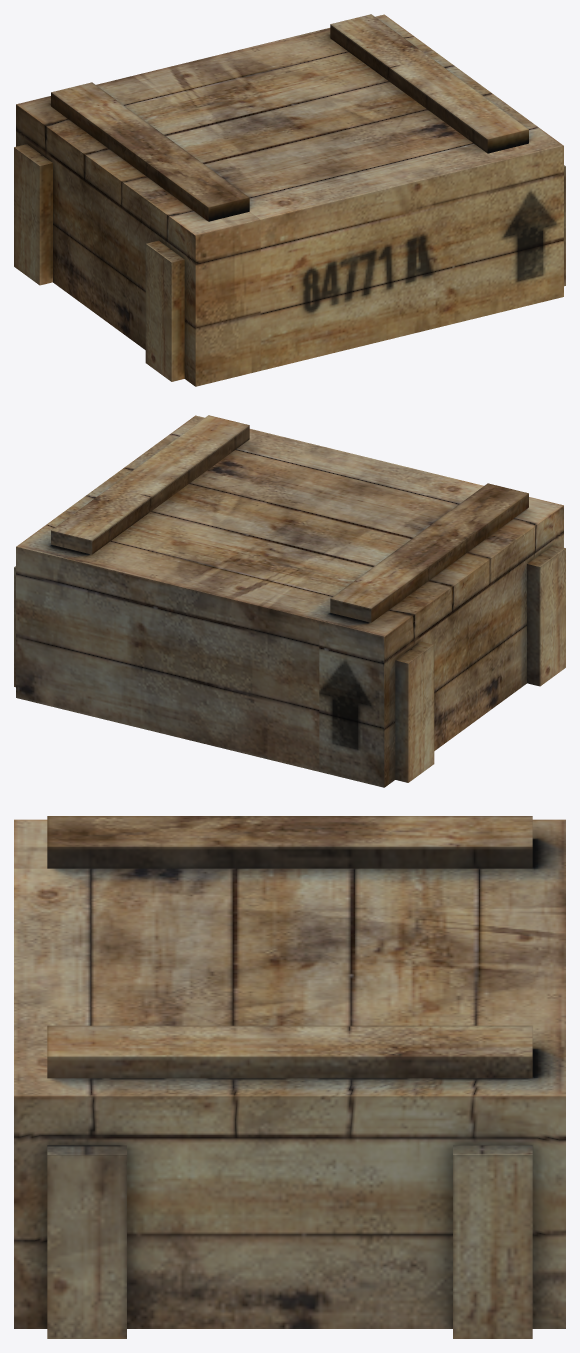
File: MediumTank_Gear_Crate_02.FBX
3 renders of one model, top to bottom at view 1: azimuth 30°, elevation 25°; view 2: azimuth 150°, elevation 25°; view 3: azimuth 270°, elevation 25°, orthographic. The views are drawn at different scales.
Parts seen in each view (by area): view 1: MediumTank_Gear_Crate_02; view 2: MediumTank_Gear_Crate_02; view 3: MediumTank_Gear_Crate_02.
Part boxes in pixels (<box>): MediumTank_Gear_Crate_02: <box>14,14,565,386</box>; MediumTank_Gear_Crate_02: <box>14,415,565,787</box>; MediumTank_Gear_Crate_02: <box>14,816,565,1338</box>.
Size of the model in its own units: 0.7106 by 0.2846 by 0.5598.
